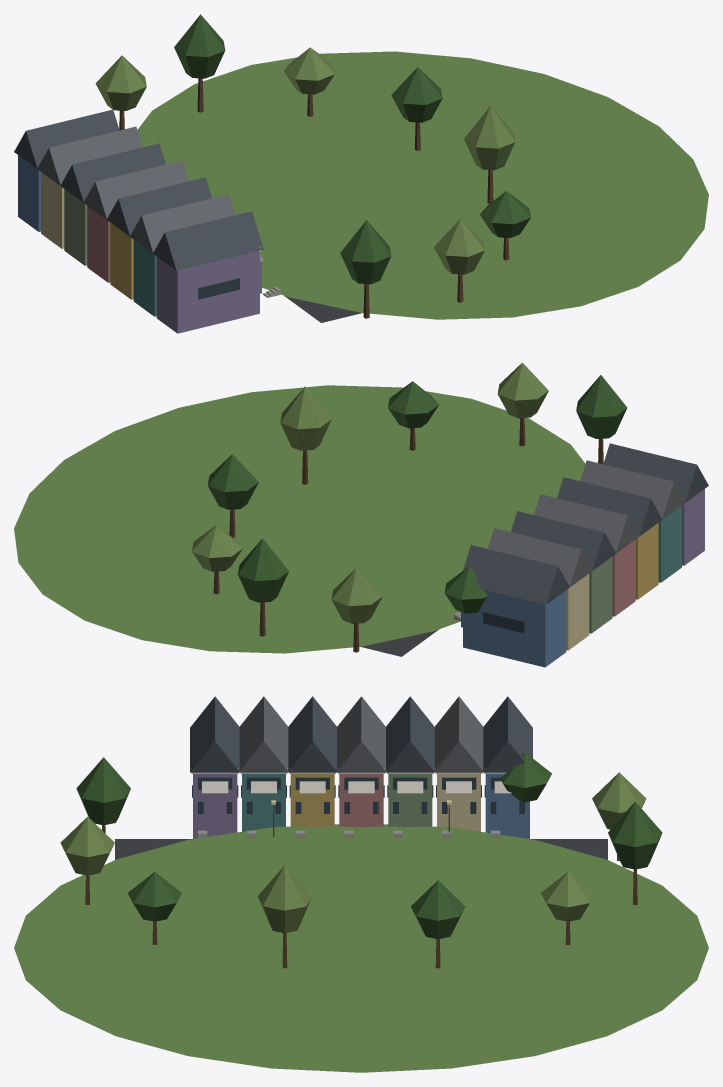
The model's file is desktop.glb.
3 views of the same model, one above another, from view 1: azimuth 30°, elevation 25°; view 2: azimuth 150°, elevation 25°; view 3: azimuth 270°, elevation 25° (orthographic). The views are drawn at different scales.
Visible parts, largest first — view 1: lm.painted-ladies; view 2: lm.painted-ladies; view 3: lm.painted-ladies.
Part boxes in pixels (<box>): lm.painted-ladies: <box>14,14,708,333</box>; lm.painted-ladies: <box>14,362,708,667</box>; lm.painted-ladies: <box>14,696,708,1072</box>.
Bounding box in the file's own units: 103 × 19 × 104.
